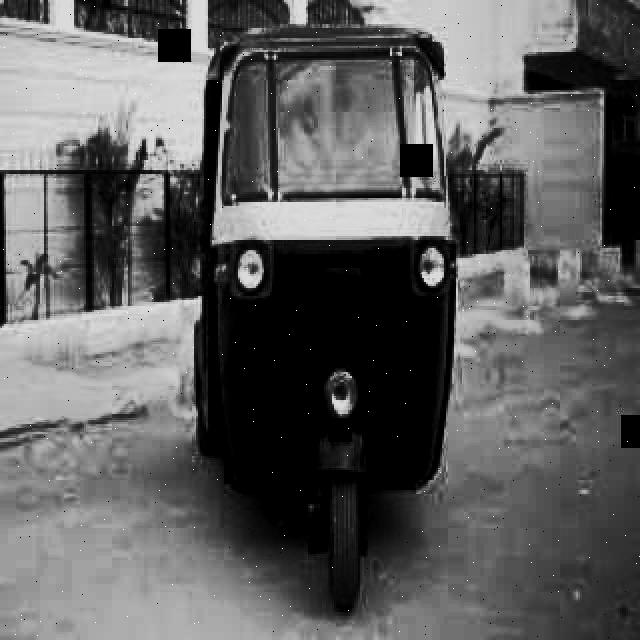Auto-Rickshaw: (174, 18, 480, 616)
